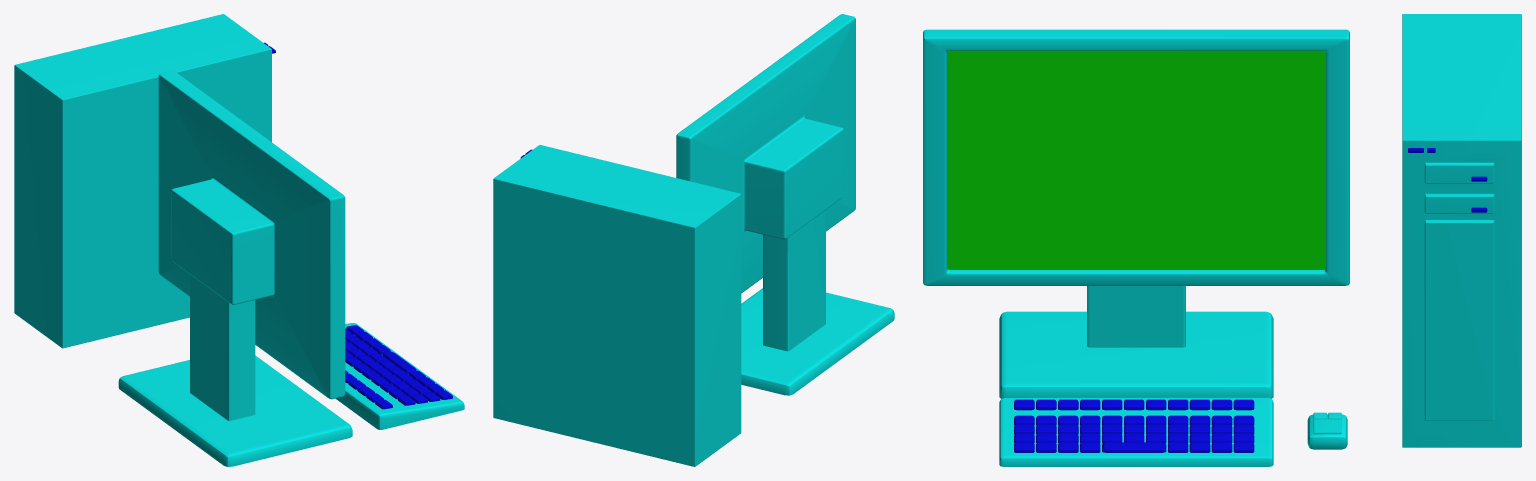
Rendered from SM_Ordi.fbx.
3 views of the same model, side by side, from view 1: azimuth 30°, elevation 25°; view 2: azimuth 150°, elevation 25°; view 3: azimuth 270°, elevation 25° (orthographic). The views are drawn at different scales.
Visible parts, largest first — view 1: pCube65; view 2: pCube65; view 3: pCube65.
Boxes of the visible parts, left/top/right/bottom form: pCube65: left=14, top=14, right=464, bottom=466; pCube65: left=493, top=14, right=894, bottom=466; pCube65: left=923, top=14, right=1521, bottom=466.
Size of the model in its own units: 37.56 by 40.73 by 65.38.
